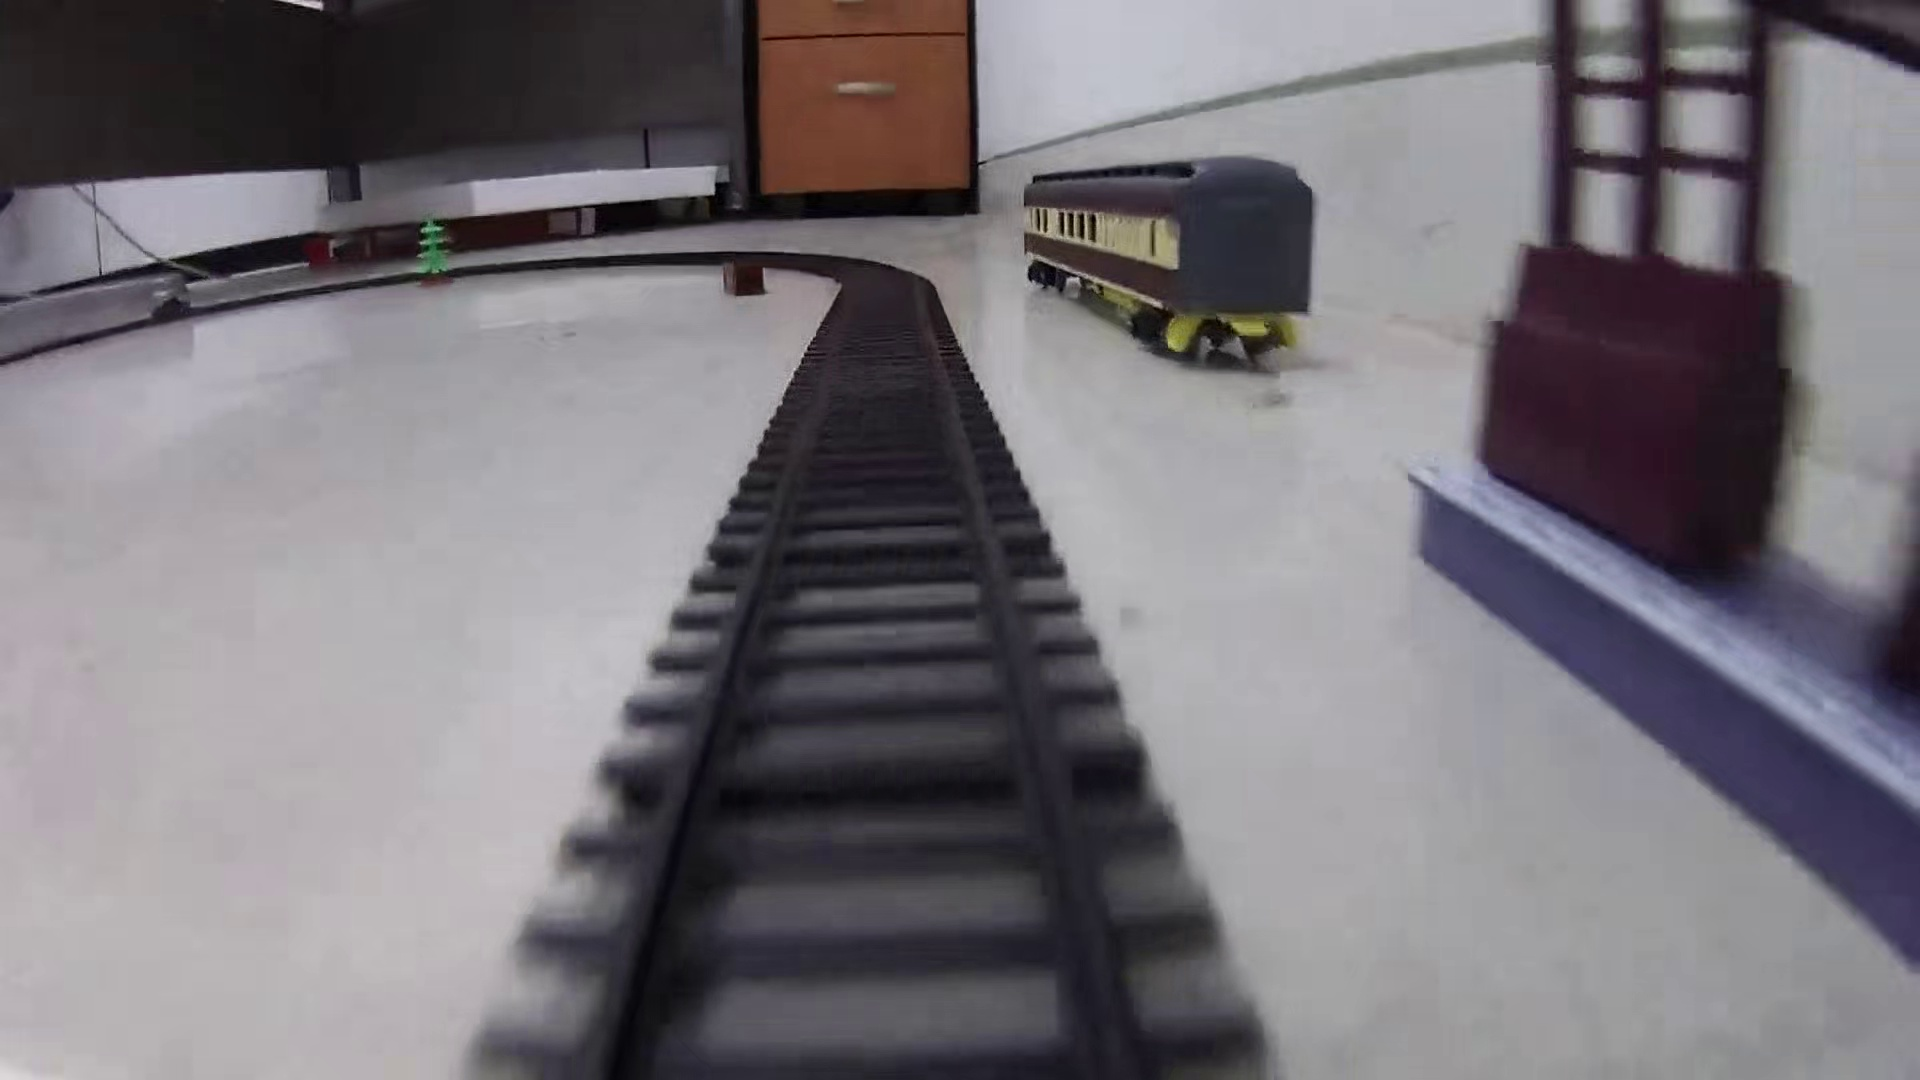box: (720, 253, 772, 298)
tree: (414, 205, 459, 288)
